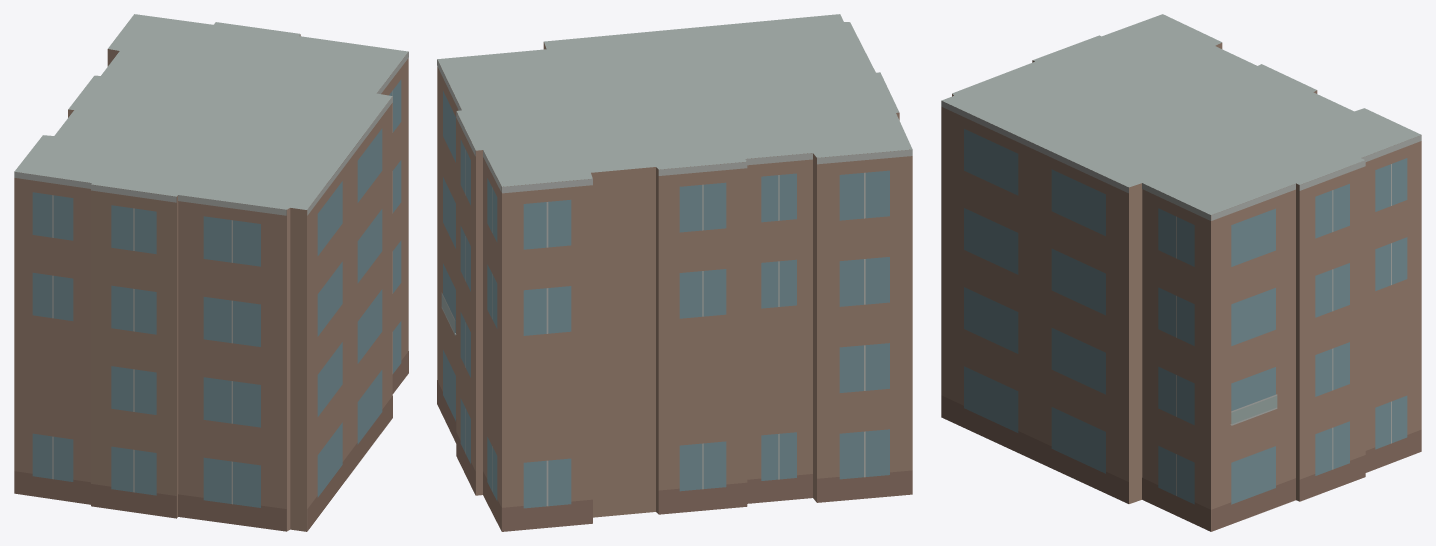
The model's file is survey-upis-32833390.glb.
The picture shows the model from 3 angles, left to right: view 1: azimuth 30°, elevation 25°; view 2: azimuth 150°, elevation 25°; view 3: azimuth 270°, elevation 25°; orthographic projection. The views are drawn at different scales.
Visible parts, largest first — view 1: survey-upis-32833390.tmp; view 2: survey-upis-32833390.tmp; view 3: survey-upis-32833390.tmp.
Part boxes in pixels (x1=…): survey-upis-32833390.tmp: x1=14, y1=14, x2=408, y2=531; survey-upis-32833390.tmp: x1=437, y1=14, x2=912, y2=531; survey-upis-32833390.tmp: x1=941, y1=14, x2=1421, y2=531.
Bounding box in the file's own units: 17.58 × 12.9 × 17.74.
